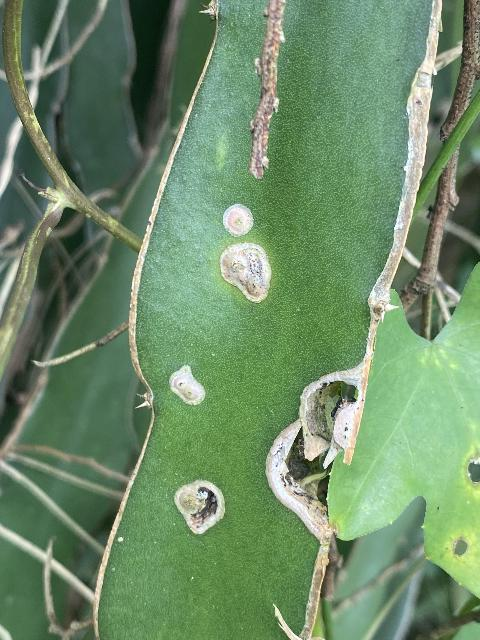stemcanker: (268, 379, 361, 550), (247, 1, 287, 183), (215, 239, 274, 305), (173, 479, 227, 536), (167, 362, 209, 408), (221, 201, 256, 238)
